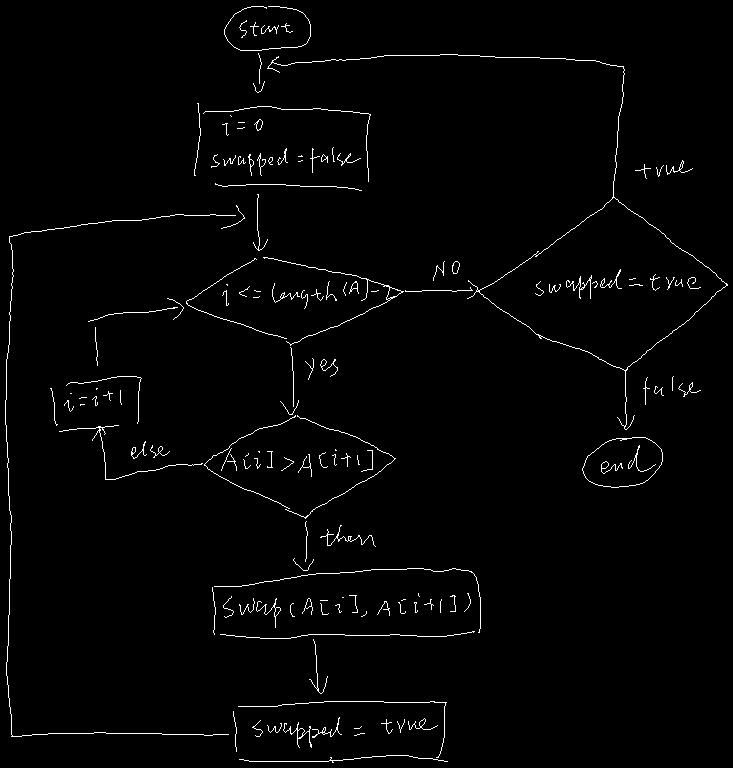arrow: (5, 205, 244, 736), (267, 54, 624, 198), (88, 298, 183, 365), (92, 426, 202, 479), (405, 280, 477, 298), (280, 347, 298, 414), (617, 370, 634, 429), (293, 521, 313, 570), (309, 639, 327, 693), (253, 194, 267, 250), (253, 53, 264, 92)
decision: (476, 196, 727, 371), (204, 415, 395, 518), (186, 257, 403, 345)
process: (212, 568, 480, 638), (194, 103, 370, 190), (233, 701, 447, 762), (50, 376, 141, 431)
terminator: (582, 437, 662, 487), (224, 6, 310, 50)
text: (211, 115, 360, 175), (223, 593, 470, 627), (252, 717, 437, 747), (222, 279, 394, 308), (535, 269, 700, 298), (221, 448, 372, 476), (643, 376, 700, 404), (601, 445, 655, 473), (64, 388, 121, 411), (320, 525, 375, 546), (635, 160, 692, 178), (239, 20, 292, 37), (305, 358, 337, 379), (131, 441, 169, 458), (433, 261, 459, 280)
